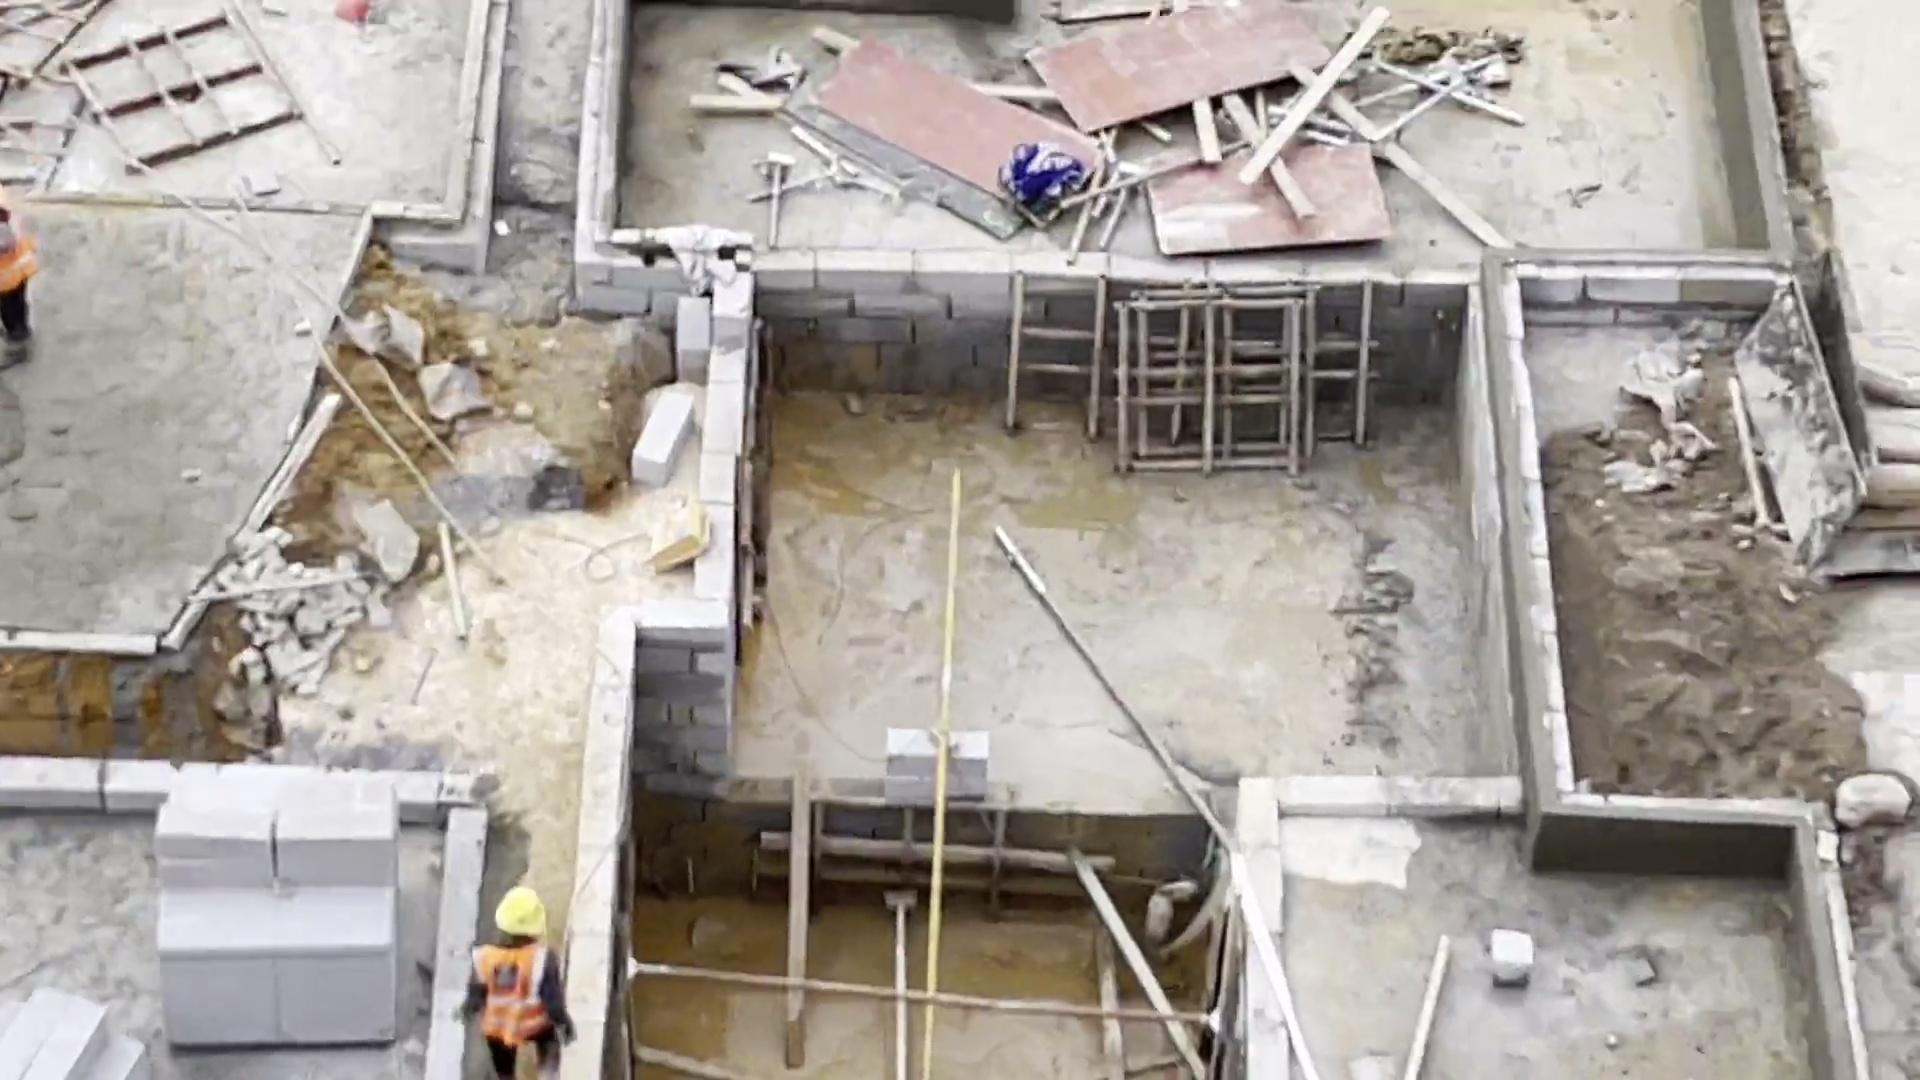helmet: (490, 884, 547, 945)
person: (461, 883, 575, 1080), (1, 197, 40, 379)
vest: (468, 945, 561, 1044)
